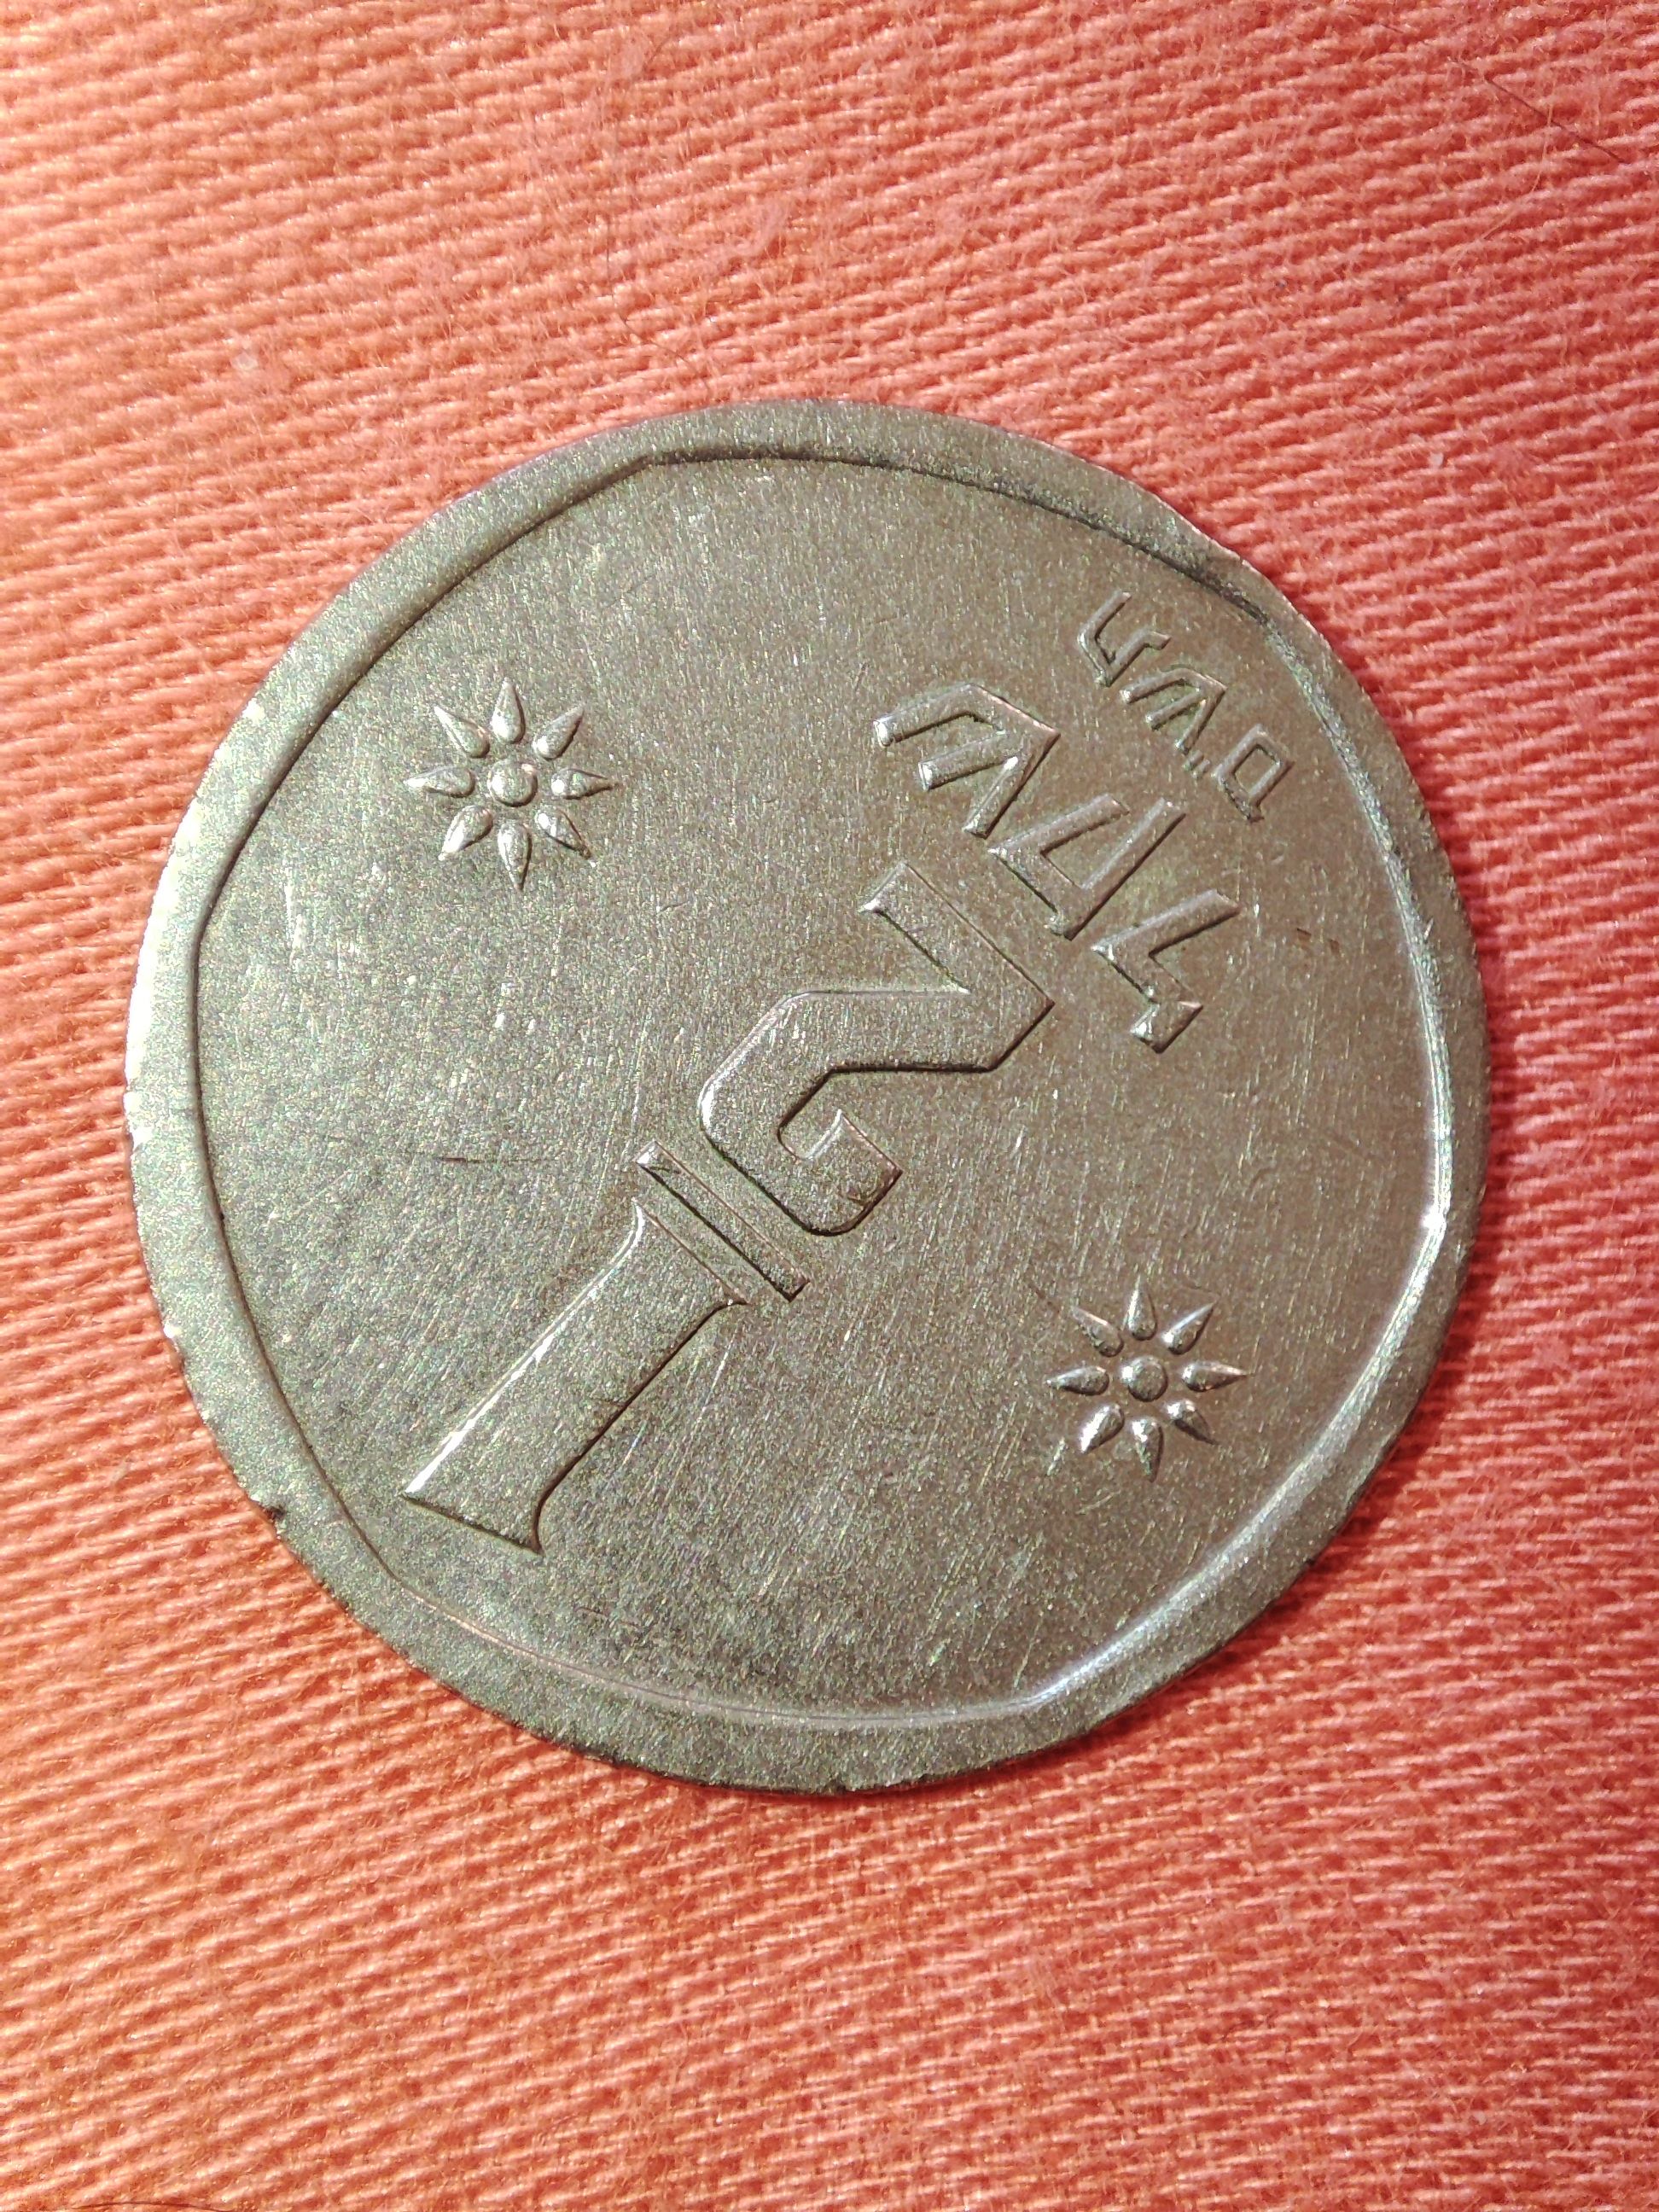1/2 old sheqel: (113, 387, 1502, 1808)
